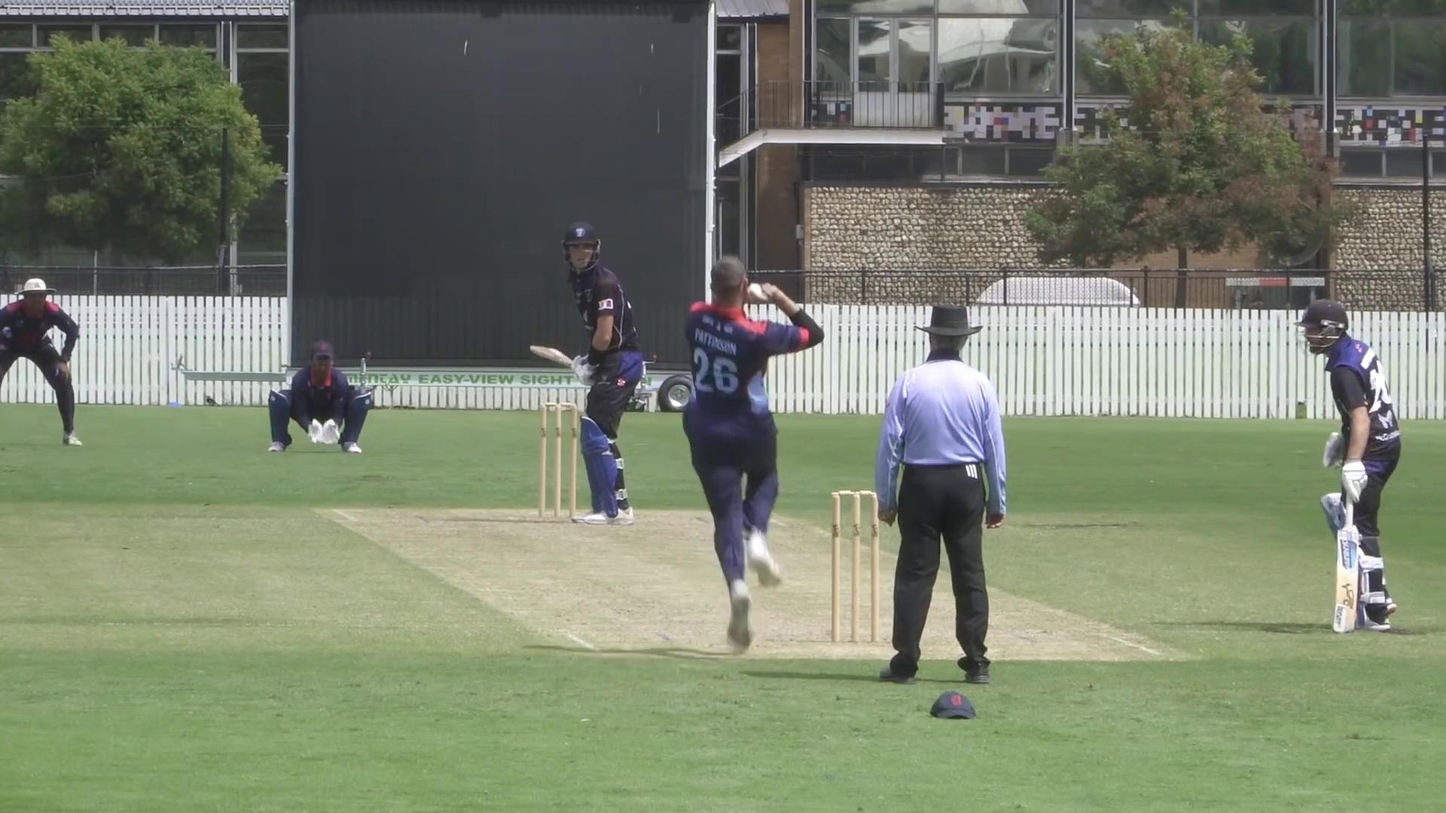ball: (742, 277, 769, 306)
